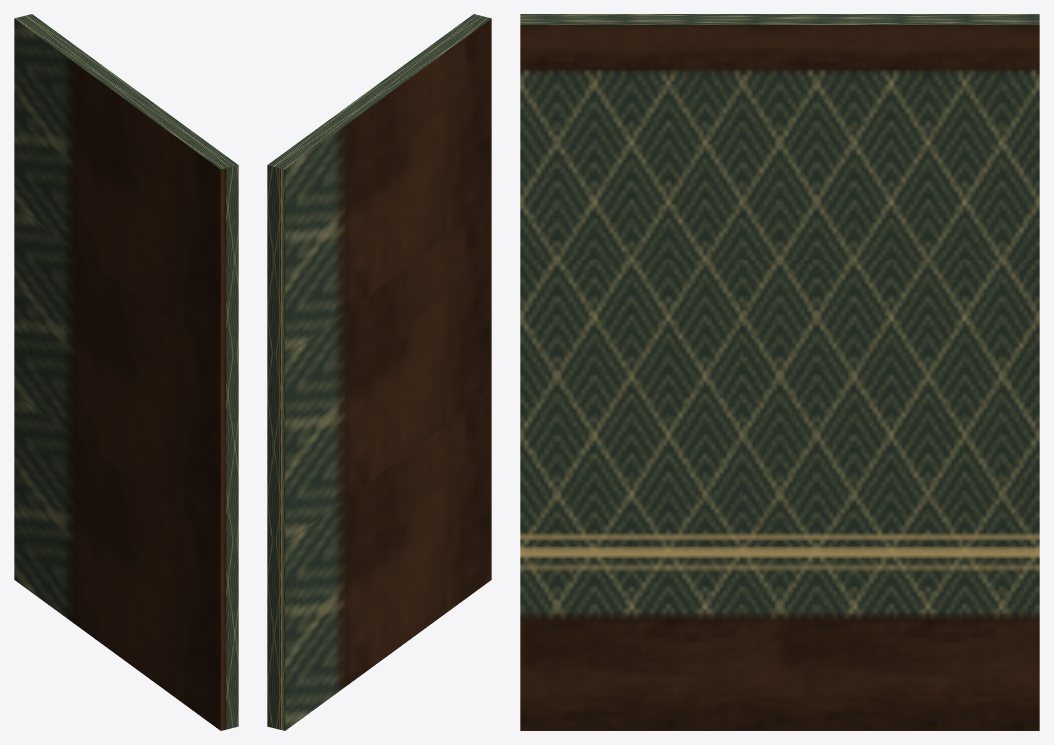
The model's file is Wall.glb.
The picture shows the model from 3 angles, left to right: view 1: azimuth 30°, elevation 25°; view 2: azimuth 150°, elevation 25°; view 3: azimuth 270°, elevation 25°; orthographic projection. The views are drawn at different scales.
Parts seen in each view (by area): view 1: Wall_Top, Wall_Mid, Wall_Bottom; view 2: Wall_Top, Wall_Mid, Wall_Bottom; view 3: Wall_Top, Wall_Bottom, Wall_Mid.
Part boxes in pixels (<box>): Wall_Top: <box>14,14,238,356</box>; Wall_Mid: <box>14,206,238,543</box>; Wall_Bottom: <box>14,393,238,730</box>; Wall_Top: <box>267,14,491,356</box>; Wall_Mid: <box>267,206,491,543</box>; Wall_Bottom: <box>267,393,491,730</box>; Wall_Top: <box>520,14,1039,260</box>; Wall_Bottom: <box>520,495,1039,730</box>; Wall_Mid: <box>520,260,1039,495</box>.
Size of the model in its own units: 0.1 by 3 by 2.
Materials: 1 (1 with a texture image).
